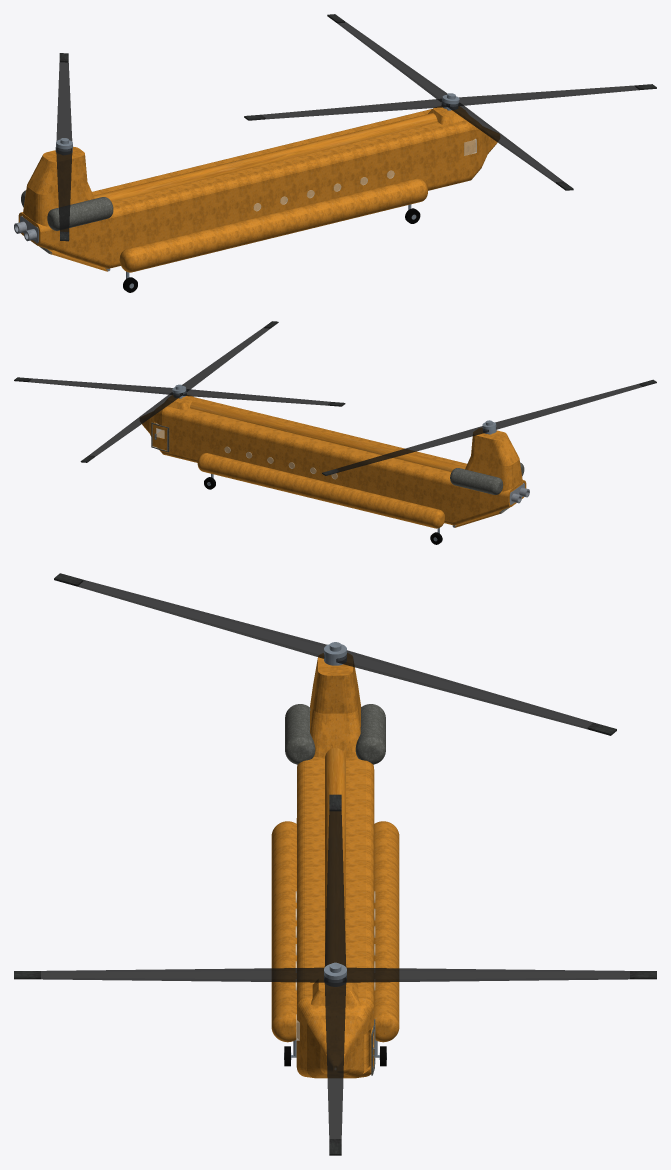
Rendered from Military_helicopter__1266.glb.
3 renders of one model, top to bottom at view 1: azimuth 30°, elevation 25°; view 2: azimuth 150°, elevation 25°; view 3: azimuth 270°, elevation 25°, orthographic. The views are drawn at different scales.
Parts seen in each view (by area): view 1: fuselage::hull, fuselage::right_sponson, fuselage::spine_fairing, fuselage::rear_pylon, fuselage::right_engine_nacelle, front_rotor::blade_2, front_rotor::blade_0, front_rotor::blade_3, front_rotor::blade_1, rear_rotor::blade_1, rear_rotor::blade_0, fuselage::front_pylon (+1 smaller); view 2: fuselage::hull, fuselage::left_sponson, fuselage::spine_fairing, fuselage::rear_pylon, rear_rotor::blade_0, rear_rotor::blade_1, fuselage::left_engine_nacelle, front_rotor::blade_2, front_rotor::blade_0, front_rotor::blade_1, front_rotor::blade_3; view 3: fuselage::hull, fuselage::right_sponson, fuselage::left_sponson, fuselage::rear_pylon, fuselage::spine_fairing, front_rotor::blade_1, front_rotor::blade_3, rear_rotor::blade_0, rear_rotor::blade_1, front_rotor::blade_0, front_rotor::blade_2, fuselage::left_engine_nacelle (+2 smaller).
Boxes of the visible parts, <box> form: fuselage::hull: <box>18,109,499,268</box>; fuselage::right_sponson: <box>119,178,427,272</box>; fuselage::spine_fairing: <box>94,113,437,201</box>; fuselage::rear_pylon: <box>22,146,94,226</box>; fuselage::right_engine_nacelle: <box>47,197,113,230</box>; front_rotor::blade_2: <box>245,98,449,119</box>; front_rotor::blade_0: <box>458,85,642,105</box>; front_rotor::blade_3: <box>446,102,562,184</box>; front_rotor::blade_1: <box>335,21,447,101</box>; rear_rotor::blade_1: <box>56,147,72,231</box>; rear_rotor::blade_0: <box>56,61,72,141</box>; fuselage::front_pylon: <box>428,106,472,124</box>; fuselage::hull: <box>140,397,526,525</box>; fuselage::left_sponson: <box>197,453,444,528</box>; fuselage::spine_fairing: <box>190,400,465,471</box>; fuselage::rear_pylon: <box>465,428,522,491</box>; rear_rotor::blade_0: <box>336,426,488,472</box>; rear_rotor::blade_1: <box>495,383,644,429</box>; fuselage::left_engine_nacelle: <box>450,468,503,494</box>; front_rotor::blade_2: <box>180,389,344,405</box>; front_rotor::blade_0: <box>25,378,172,394</box>; front_rotor::blade_1: <box>89,392,182,457</box>; front_rotor::blade_3: <box>182,327,271,391</box>; fuselage::hull: <box>296,757,374,1078</box>; fuselage::right_sponson: <box>271,821,296,1042</box>; fuselage::left_sponson: <box>368,821,399,1042</box>; fuselage::rear_pylon: <box>310,653,361,757</box>; fuselage::spine_fairing: <box>325,748,345,965</box>; front_rotor::blade_1: <box>342,967,634,982</box>; front_rotor::blade_3: <box>36,967,328,982</box>; rear_rotor::blade_0: <box>336,650,593,729</box>; rear_rotor::blade_1: <box>73,579,327,658</box>; front_rotor::blade_0: <box>324,977,346,1138</box>; front_rotor::blade_2: <box>324,809,346,966</box>; fuselage::left_engine_nacelle: <box>355,704,385,764</box>.
Bounding box in the file's own units: 30.18 × 6.29 × 17.9.
11 materials, 9 textured.
